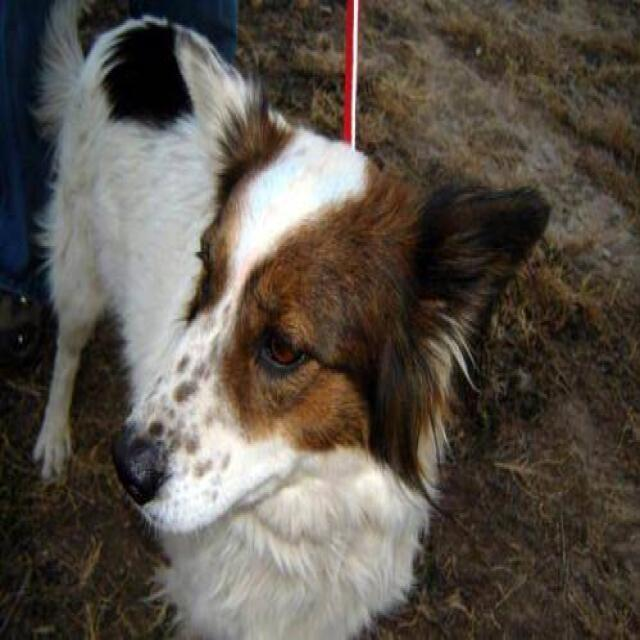dogs: (35, 0, 553, 640)
